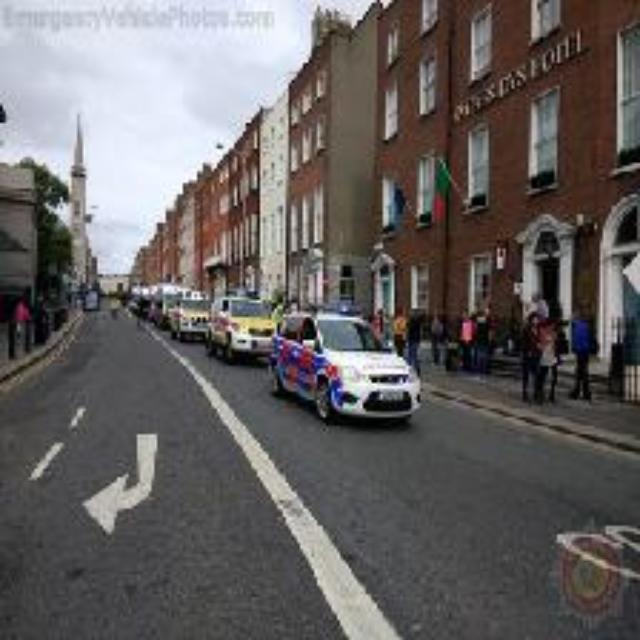emergency: (266, 310, 426, 430), (210, 293, 282, 361), (174, 283, 220, 345)
